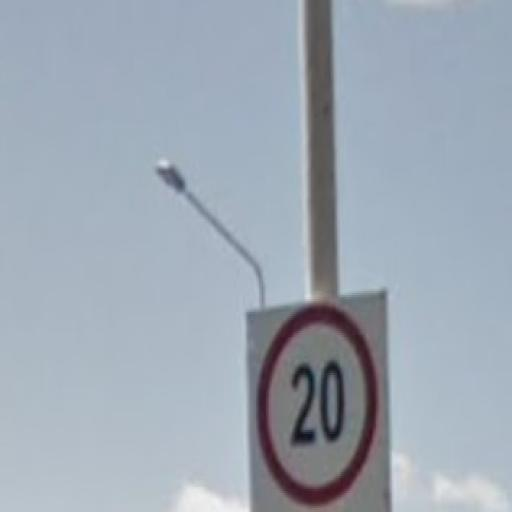traffic_sign: (257, 302, 380, 509)
